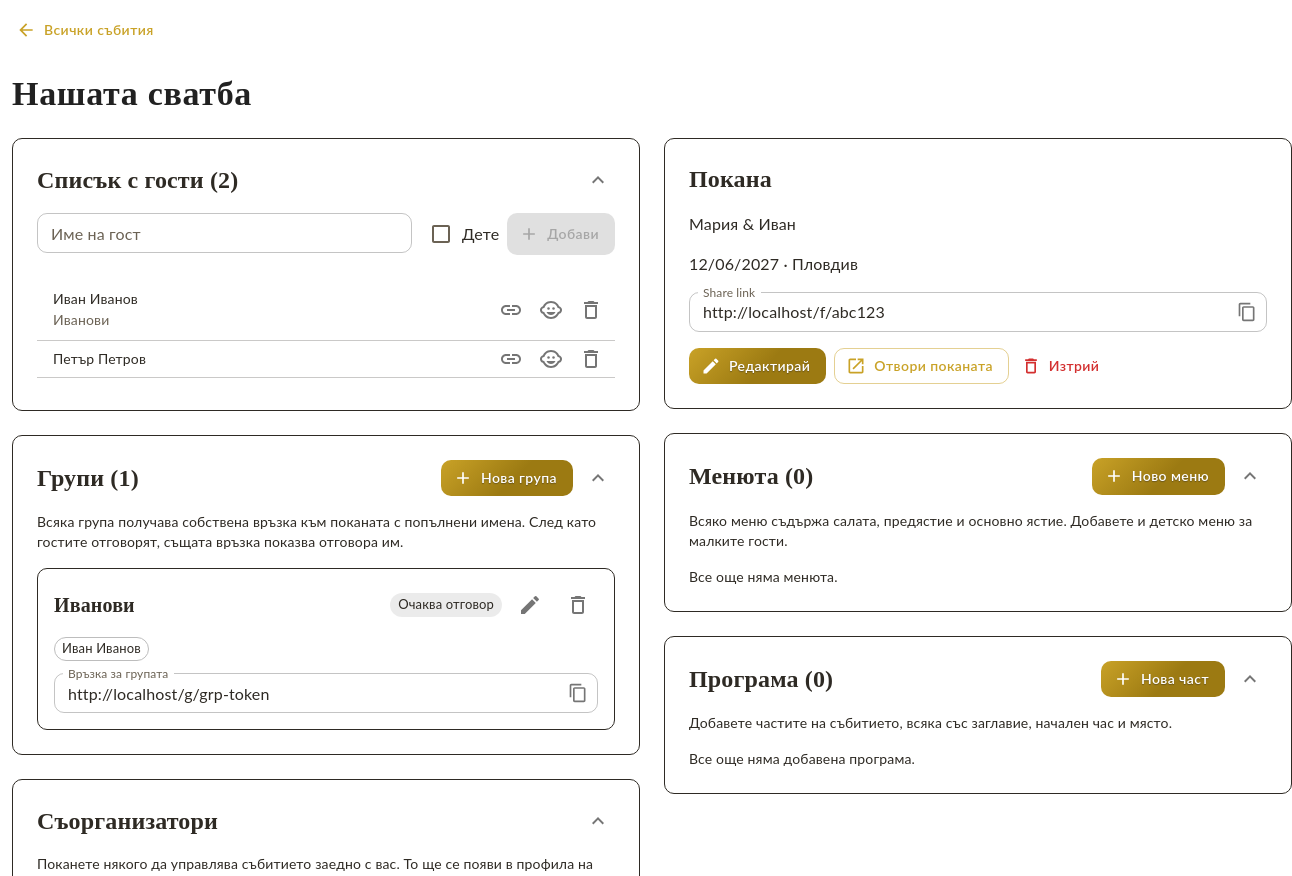
Test: EventPage › adds a guest as a child
Step 1. Type "Ники" into the field labelled "Име на гост" → (225, 234), box [37, 214, 412, 254]
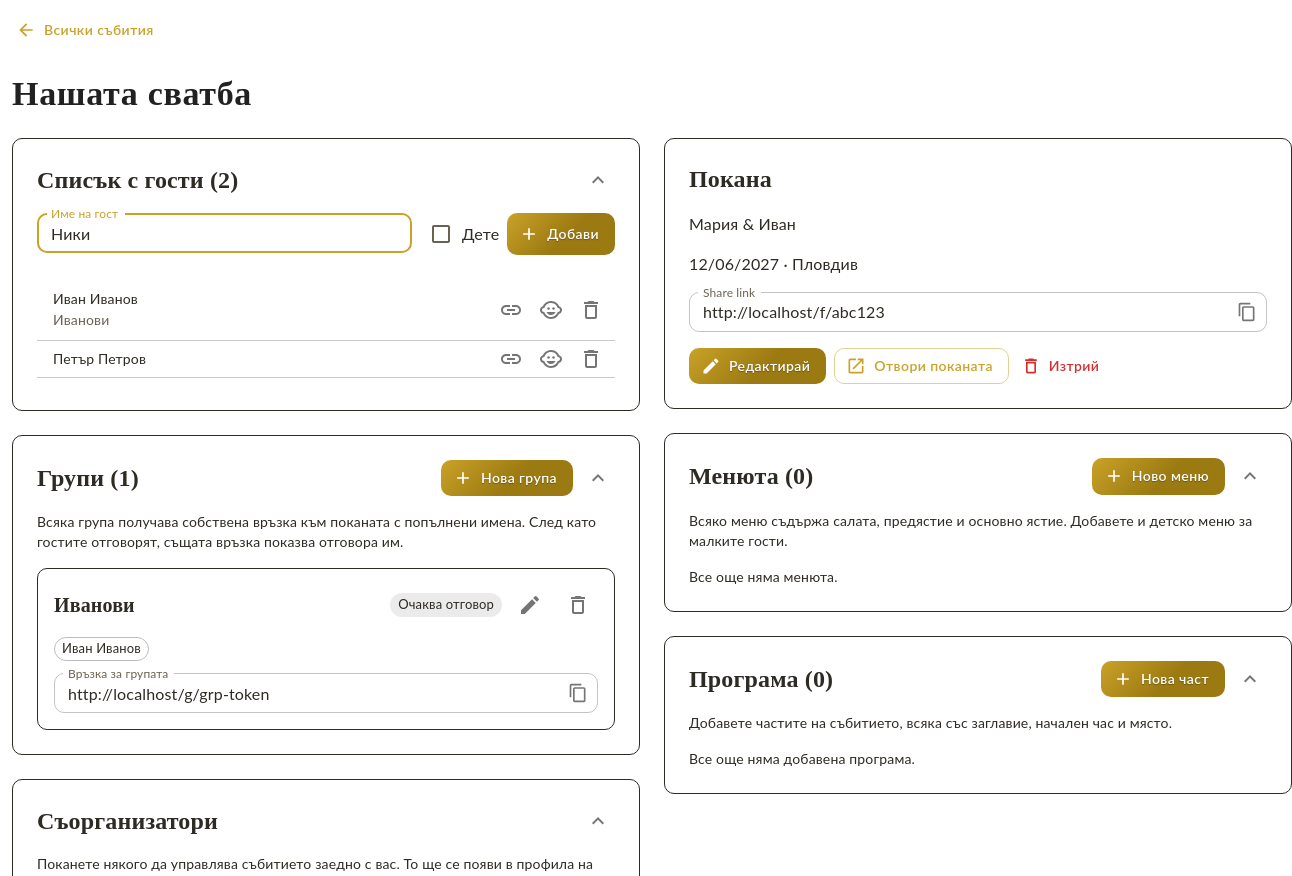
Step 2. Click the checkbox labelled "Дете" → (464, 234), box [429, 222, 499, 246]
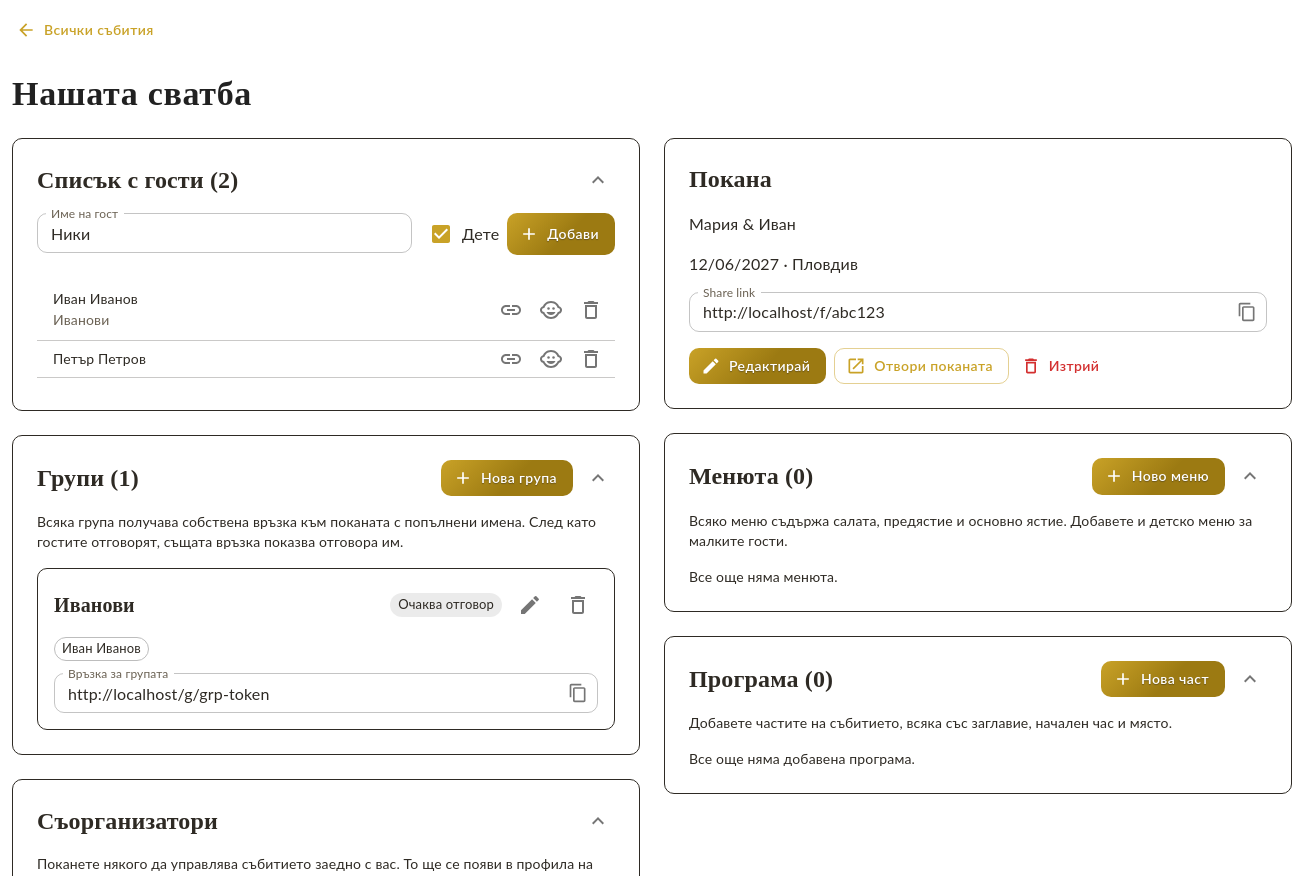
Step 3. Click the button "Добави" → (561, 234), box [507, 214, 615, 256]
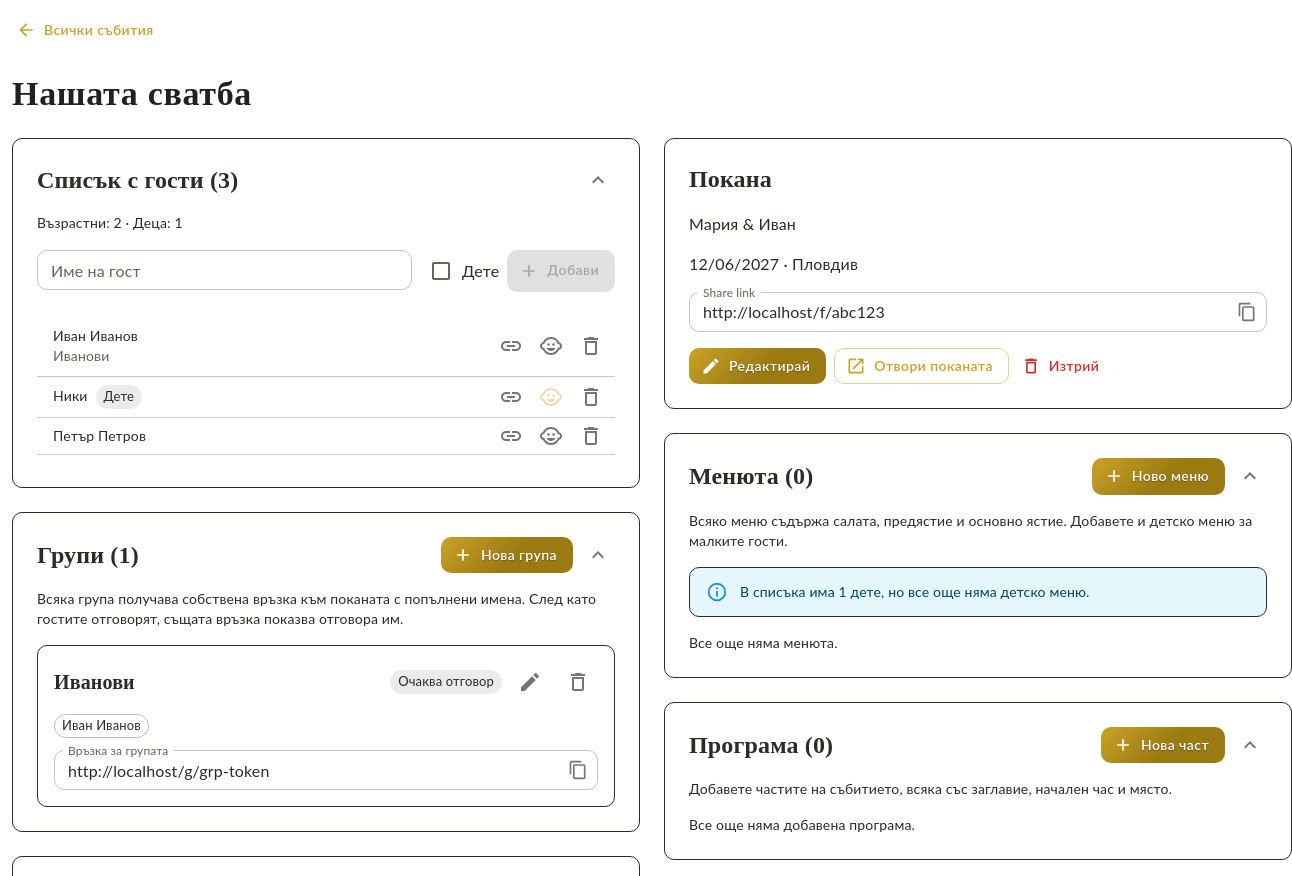
Expected: the checkbox labelled "Дете" is not checked, [429, 258, 499, 282]
Expected: the text "Възрастни: 2 · Деца: 1" is shown, [37, 214, 183, 232]
Expected: the text "В списъка има 1 дете, но все още няма детско меню." is shown, [740, 582, 1090, 600]
